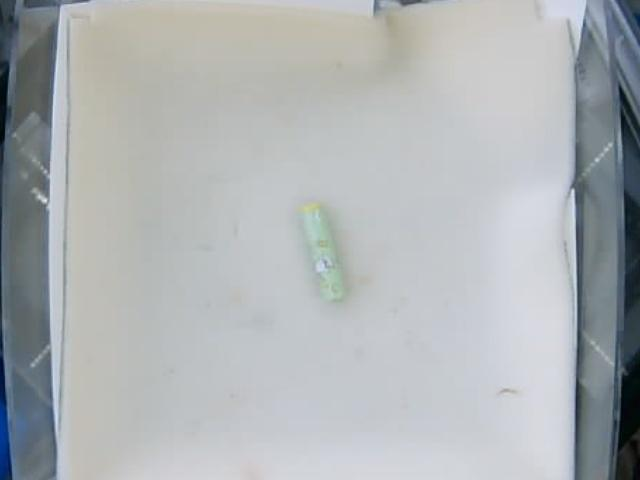Battery: (301, 202, 347, 302)
